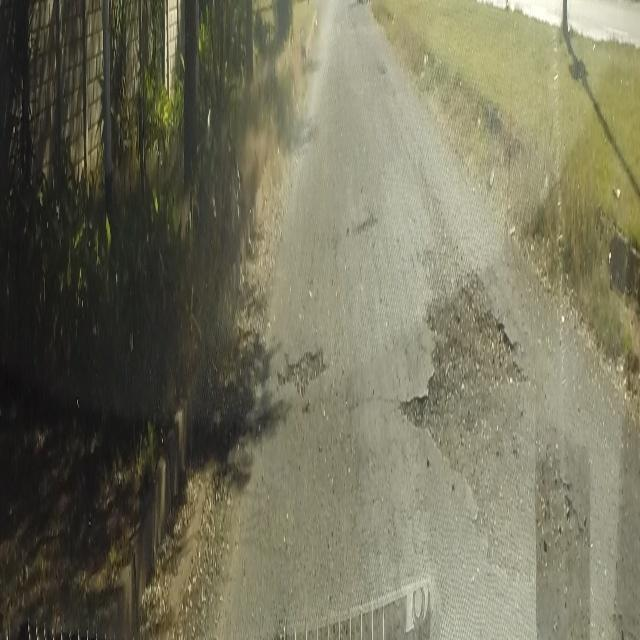pothole: (390, 252, 537, 504), (274, 343, 331, 405)
